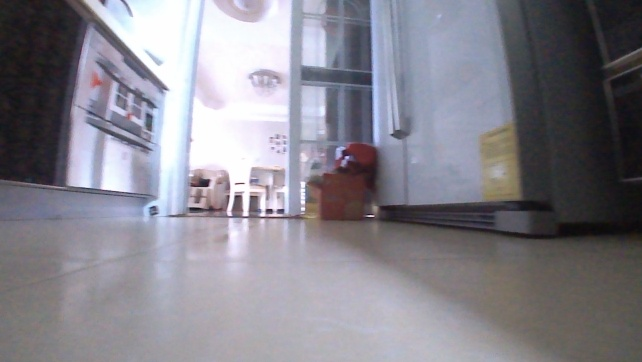refrigerator: (364, 0, 641, 240)
